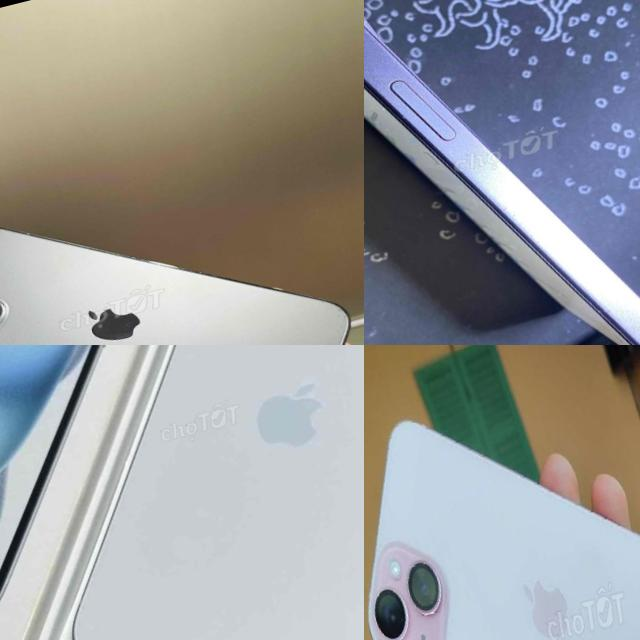gen_12_13: (364, 0, 640, 345), (0, 139, 364, 345)
gen_15: (0, 345, 364, 640), (364, 345, 640, 640)
